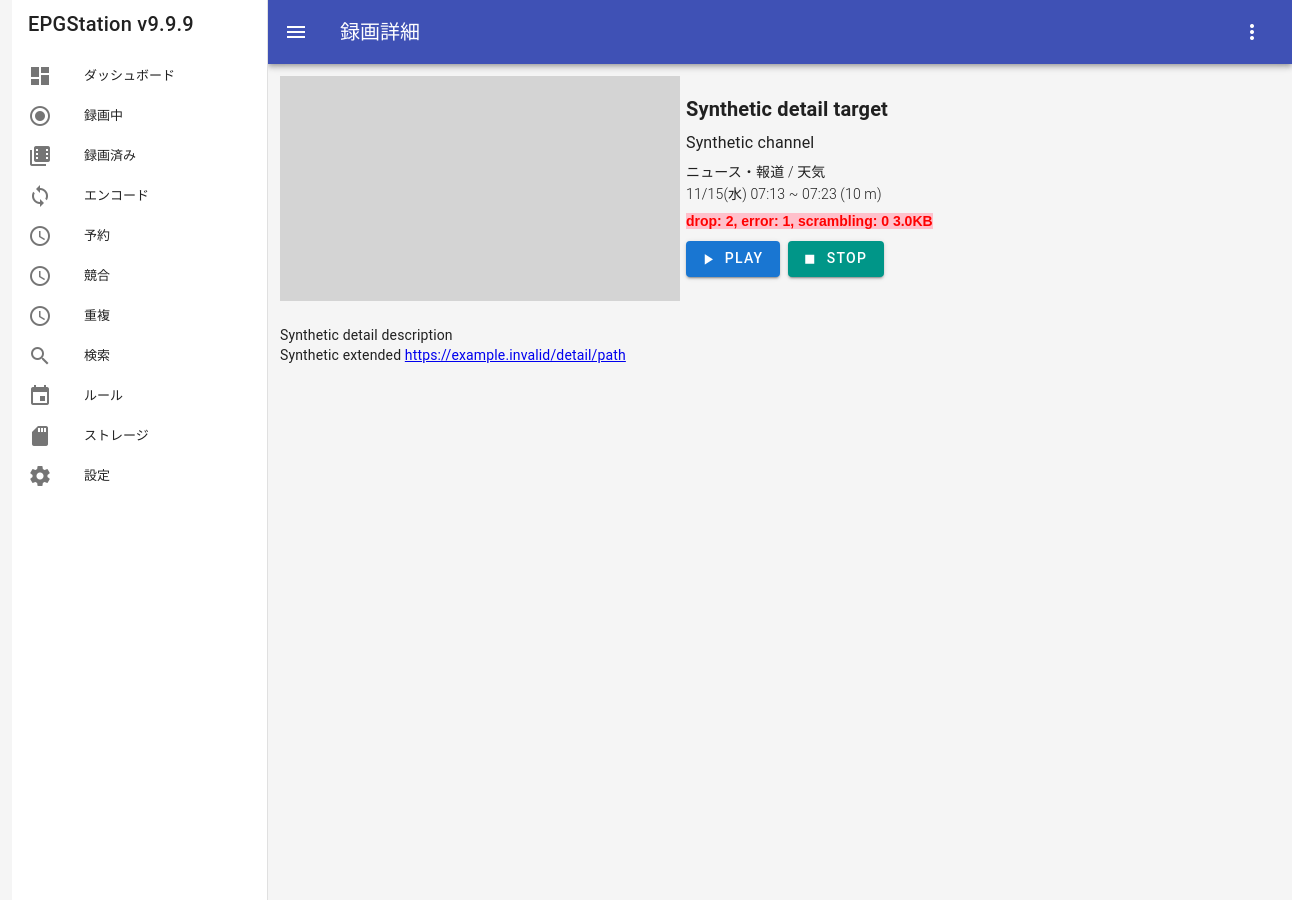
Test case: Recorded detail failure snackbars and handoff edge branches › [AC 3.16] shows a failure snackbar when the drop log request fails
The image size is (1292, 900).
Check: the element with test id "recorded-detail-page" is shown, box [280,76,933,363]
What coordinates should you click on to do the following:
click the button "drop: 2, error: 1, scrambling: 0 3.0KB"
I would click on:
 (809, 220)
Its box is [686,212,933,228].
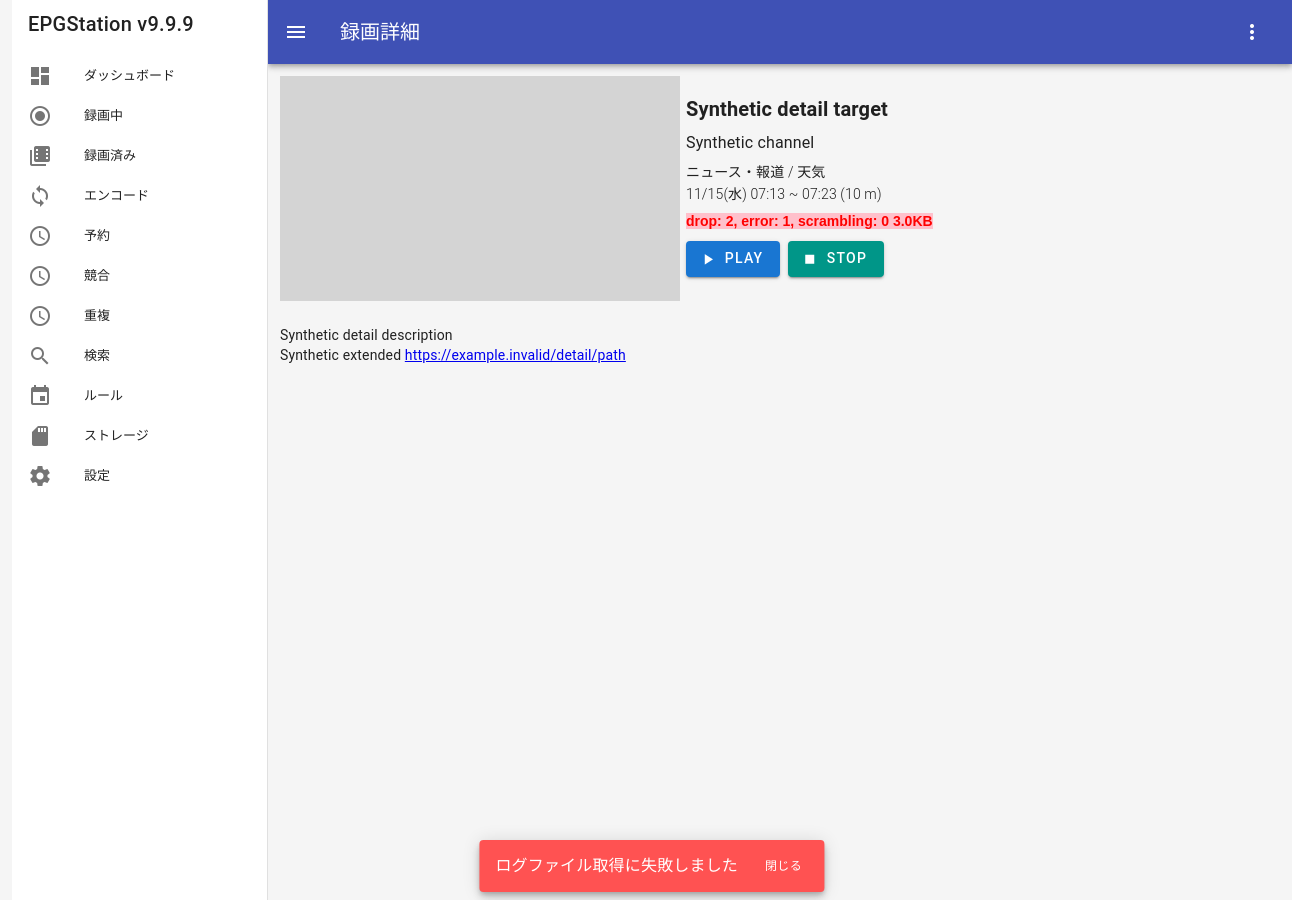
Check: the text "ログファイル取得に失敗しました" is shown, box [495,856,738,875]
